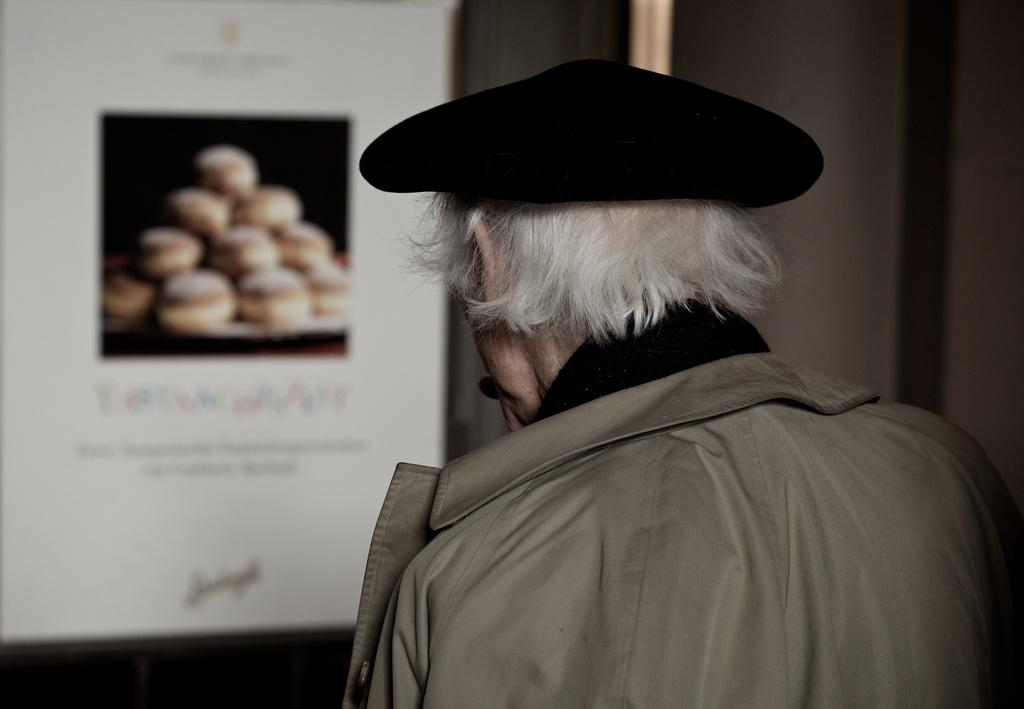Hat: (356, 53, 824, 212)
